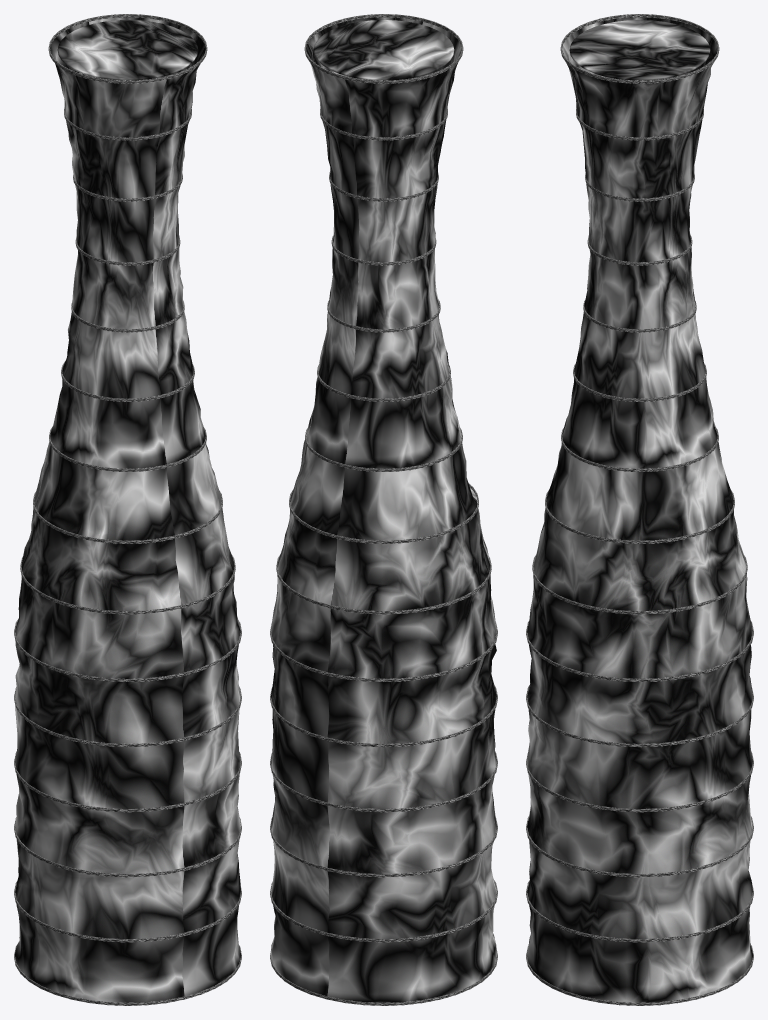
File: ikeaLamp.obj
The picture shows the model from 3 angles, left to right: view 1: azimuth 30°, elevation 25°; view 2: azimuth 150°, elevation 25°; view 3: azimuth 270°, elevation 25°; orthographic projection.
Parts seen in each view (by area): view 1: IKEA_Storm_Floor_Lamp02, IKEA_Storm_Floor_Lamp01, IKEA_Storm_Floor_Lamp13; view 2: IKEA_Storm_Floor_Lamp02, IKEA_Storm_Floor_Lamp01, IKEA_Storm_Floor_Lamp13; view 3: IKEA_Storm_Floor_Lamp02, IKEA_Storm_Floor_Lamp01, IKEA_Storm_Floor_Lamp13.
Part boxes in pixels (box(x1,y1,x2,y2)): IKEA_Storm_Floor_Lamp02: box(15, 17, 240, 1002); IKEA_Storm_Floor_Lamp01: box(14, 14, 241, 1005); IKEA_Storm_Floor_Lamp13: box(57, 20, 198, 80); IKEA_Storm_Floor_Lamp02: box(270, 17, 497, 1002); IKEA_Storm_Floor_Lamp01: box(270, 14, 497, 1005); IKEA_Storm_Floor_Lamp13: box(313, 20, 454, 80); IKEA_Storm_Floor_Lamp02: box(527, 17, 752, 1002); IKEA_Storm_Floor_Lamp01: box(526, 14, 753, 1005); IKEA_Storm_Floor_Lamp13: box(569, 20, 710, 80).
Size of the model in its own units: 36.18 by 160 by 36.18.
